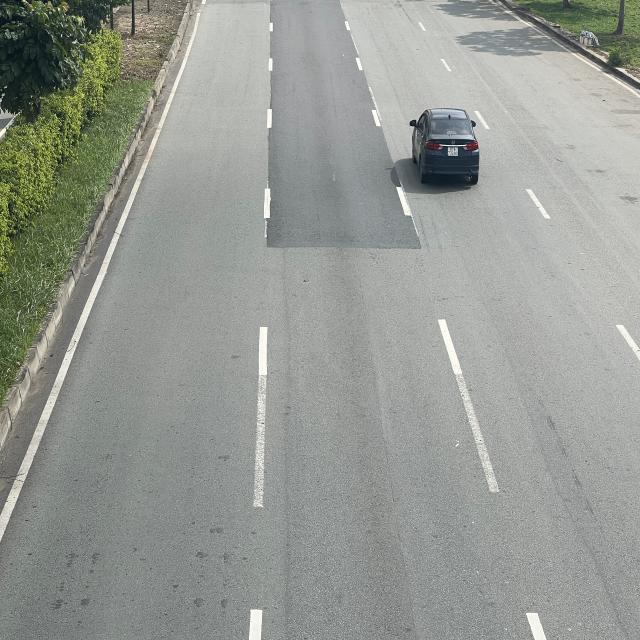car: (408, 108, 480, 185)
